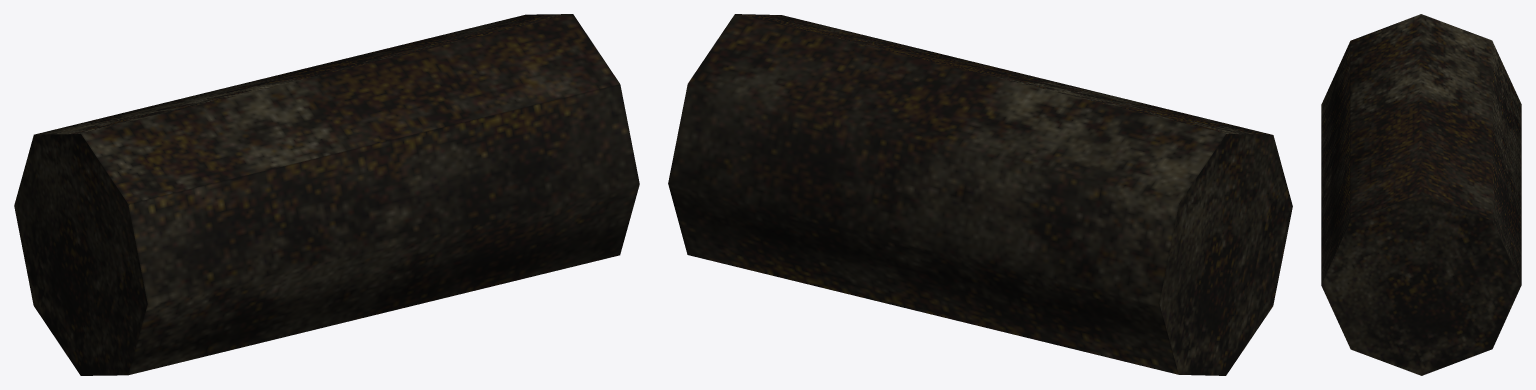
The model's file is SM_EC_Horror_Hay_9.fbx.
3 renders of one model, left to right at view 1: azimuth 30°, elevation 25°; view 2: azimuth 150°, elevation 25°; view 3: azimuth 270°, elevation 25°, orthographic. The views are drawn at different scales.
Visible parts, largest first — view 1: SM_EC_Horror_Hay_9; view 2: SM_EC_Horror_Hay_9; view 3: SM_EC_Horror_Hay_9.
Boxes of the visible parts, x1,y1,x2,y2 form: SM_EC_Horror_Hay_9: [14, 14, 639, 375]; SM_EC_Horror_Hay_9: [668, 14, 1292, 375]; SM_EC_Horror_Hay_9: [1321, 14, 1521, 375].
Bounding box in the file's own units: 1.95 × 0.9165 × 0.9165.
